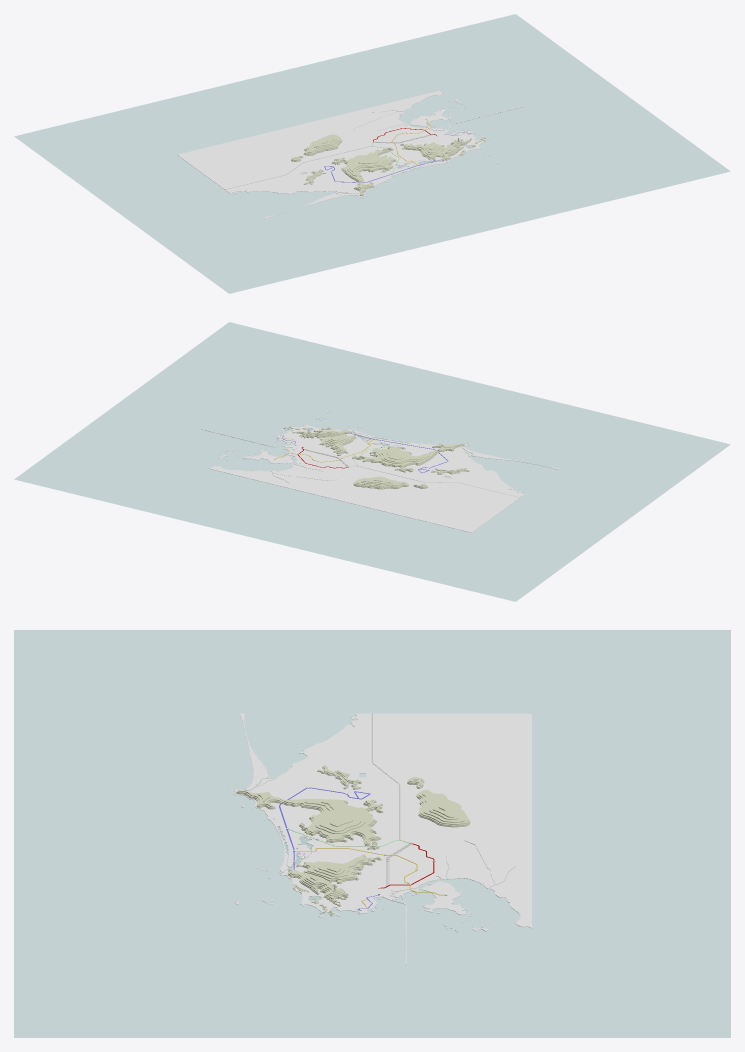
The model's file is rio.glb.
The picture shows the model from 3 angles, top to bottom: view 1: azimuth 30°, elevation 25°; view 2: azimuth 150°, elevation 25°; view 3: azimuth 270°, elevation 25°; orthographic projection. The views are drawn at different scales.
Parts seen in each view (by area): view 1: 33; view 2: 33; view 3: 33.
Boxes of the visible parts, left/top/right/bottom form: 33: left=14, top=14, right=730, bottom=293; 33: left=14, top=322, right=730, bottom=601; 33: left=14, top=630, right=730, bottom=1037.
Bounding box in the file's own units: 12.13 × 0.141 × 9.01.
